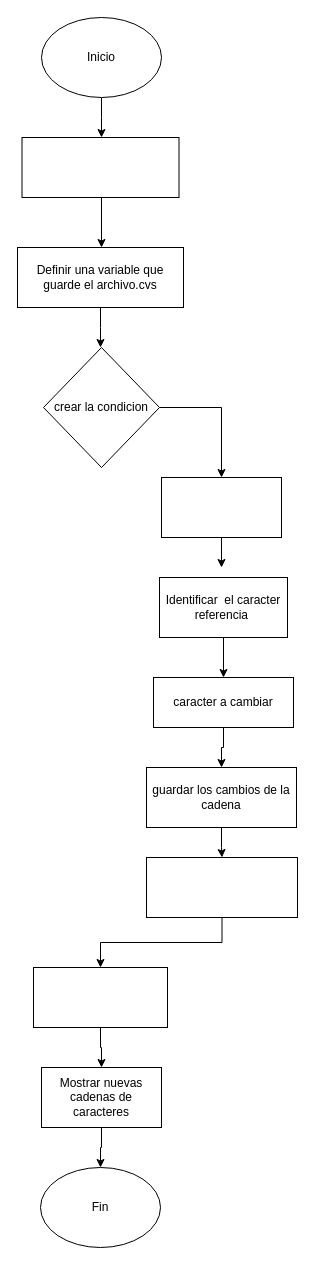
This 315x1265 diagram has some shape labels left out. Here are the shapes that lost their labels. From the top down, the box of each, then its label:
(21, 136, 179, 198): importar libreria panda
(160, 476, 282, 538): Buscar la posicion del caracter
(146, 856, 298, 918): guardar la variante de la posicion
(32, 966, 168, 1028): Combinar ventanas de variantes
